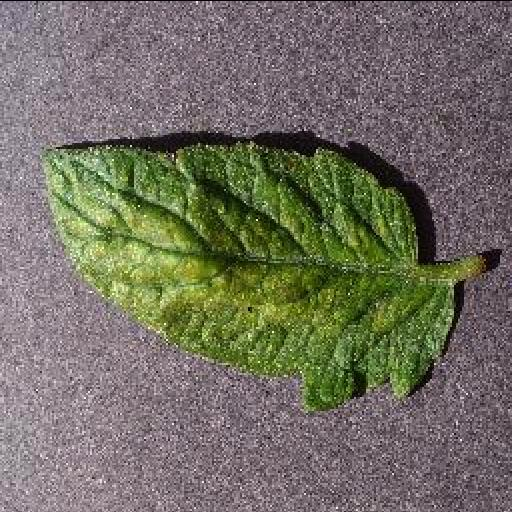disease_tomato: (38, 141, 458, 413)
